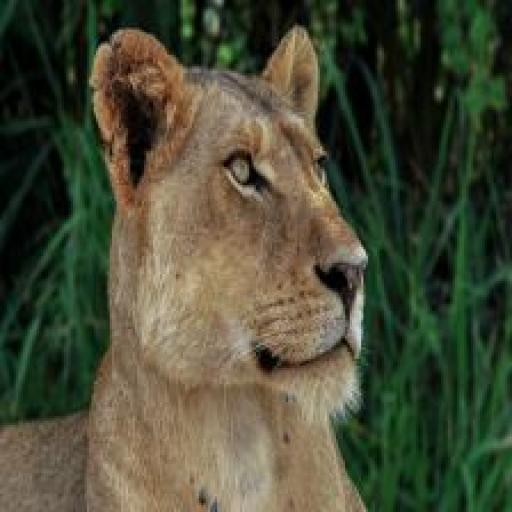lion: (84, 18, 380, 511)
